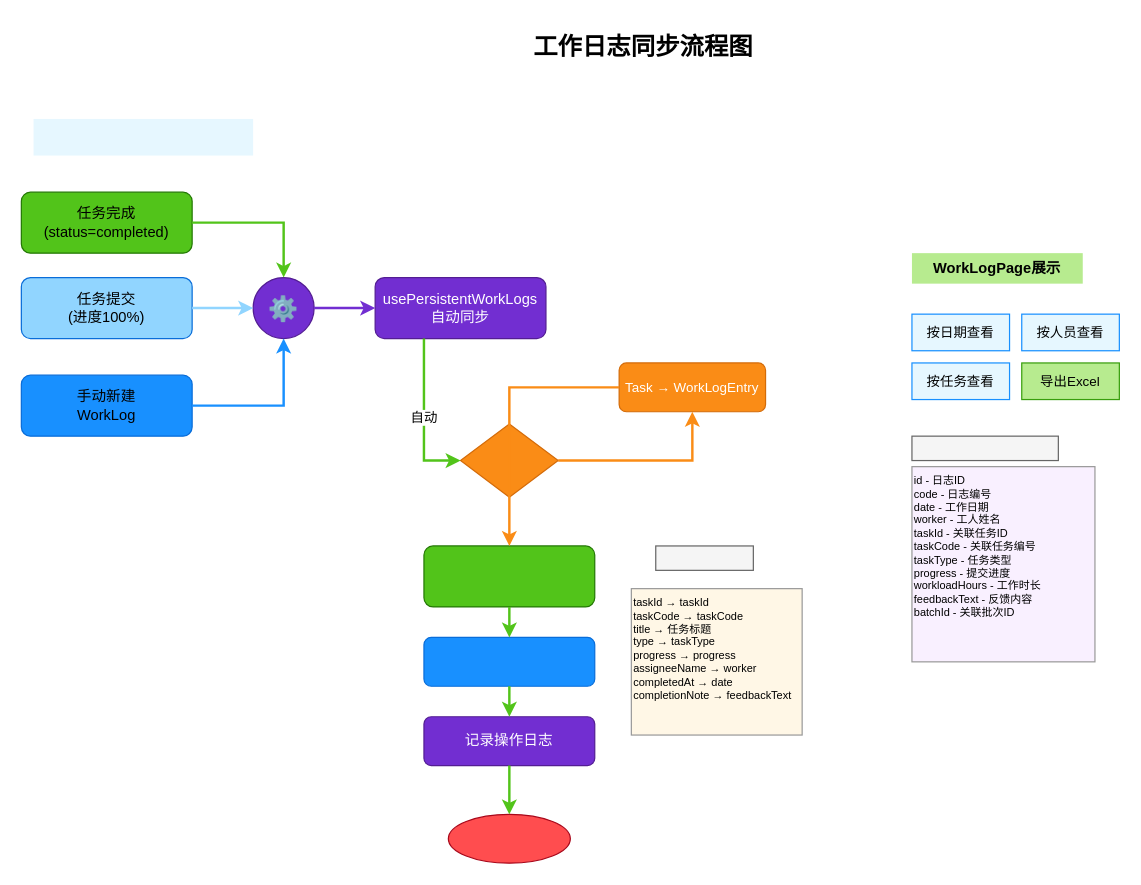
This 1141x885 diagram has some shape labels left out. The centre of each missing label's shape, as x and y in pixels:
"WorkLogEntry字段：" goes at point (984, 448).
"保存到localStorage WORK_LOGS" goes at point (509, 576).
"关联FarmBatch" goes at point (509, 661).
"同步完成" goes at point (508, 838).
"同步触发场景" goes at point (143, 136).
"字段映射：" goes at point (704, 557).
"数据转换" goes at point (508, 460).
